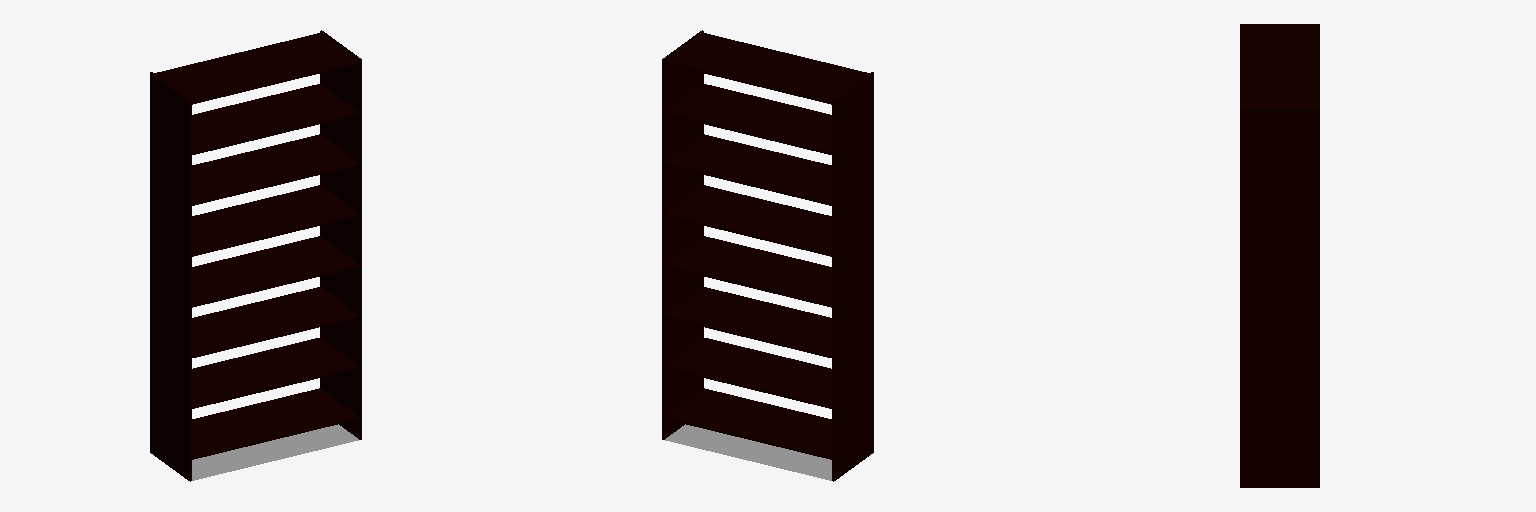
Rendered from estante.obj.
3 renders of one model, left to right at view 1: azimuth 30°, elevation 25°; view 2: azimuth 150°, elevation 25°; view 3: azimuth 270°, elevation 25°, orthographic.
Parts seen in each view (by area): view 1: Montant_1_11, Montant_9, Etagere_2_7, Etagere_4_5, Etagere_8_8, Etagere_1_3, Etagere_7_10, Etagere_5_12, Etagere_6_6, Etagere_3_2, ground_1; view 2: Montant_1_11, Montant_9, Etagere_2_7, Etagere_4_5, Etagere_1_3, Etagere_3_2, Etagere_8_8, Etagere_7_10, Etagere_6_6, Etagere_5_12, ground_1; view 3: Montant_9, Etagere_2_7.
Part boxes in pixels (bbox=[...]): Montant_1_11: bbox=[150, 72, 191, 481]; Montant_9: bbox=[320, 30, 361, 439]; Etagere_2_7: bbox=[154, 33, 359, 104]; Etagere_4_5: bbox=[190, 134, 361, 206]; Etagere_8_8: bbox=[190, 185, 361, 256]; Etagere_1_3: bbox=[190, 388, 361, 459]; Etagere_7_10: bbox=[190, 287, 361, 358]; Etagere_5_12: bbox=[191, 236, 361, 307]; Etagere_6_6: bbox=[191, 337, 361, 408]; Etagere_3_2: bbox=[192, 84, 361, 154]; ground_1: bbox=[192, 424, 358, 480]; Montant_1_11: bbox=[832, 72, 873, 481]; Montant_9: bbox=[662, 30, 703, 439]; Etagere_2_7: bbox=[663, 33, 869, 104]; Etagere_4_5: bbox=[662, 134, 833, 205]; Etagere_1_3: bbox=[662, 388, 832, 459]; Etagere_3_2: bbox=[662, 84, 833, 154]; Etagere_8_8: bbox=[664, 185, 832, 256]; Etagere_7_10: bbox=[662, 287, 832, 358]; Etagere_6_6: bbox=[662, 337, 831, 408]; Etagere_5_12: bbox=[662, 236, 832, 307]; ground_1: bbox=[665, 424, 831, 480]; Montant_9: bbox=[1240, 107, 1319, 487]; Etagere_2_7: bbox=[1240, 27, 1319, 106].
Size of the model in its own units: 100 by 211 by 40.